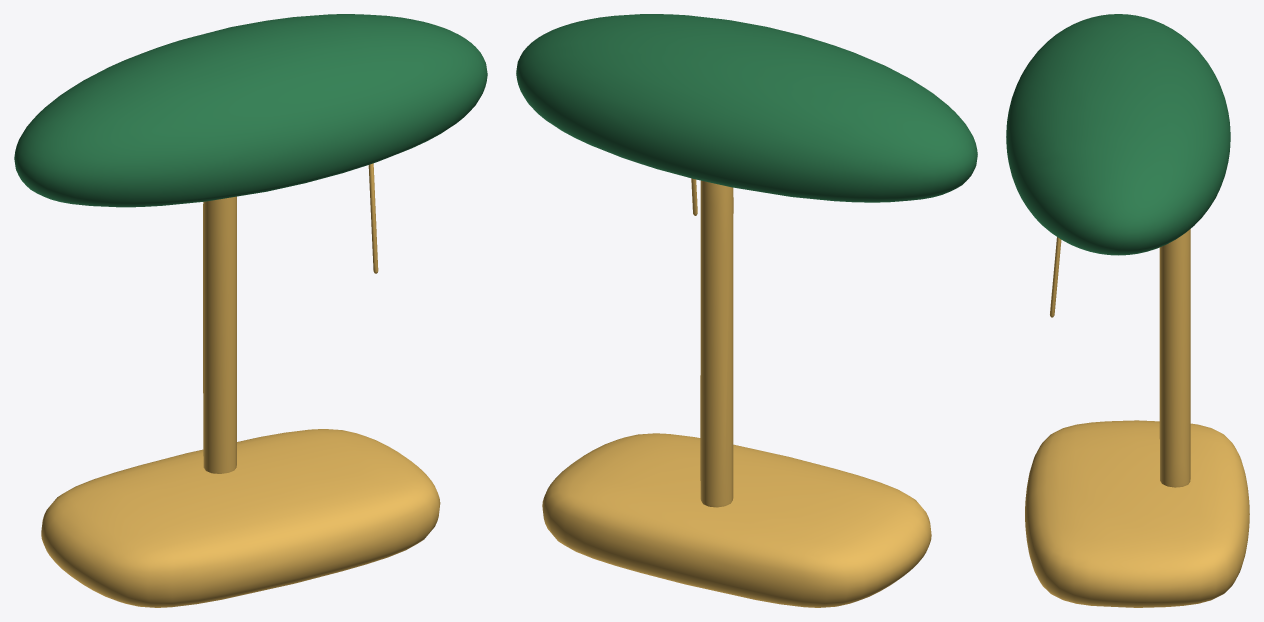
Rendered from deco_lampara_banquero.glb.
3 views of the same model, side by side, from view 1: azimuth 30°, elevation 25°; view 2: azimuth 150°, elevation 25°; view 3: azimuth 270°, elevation 25° (orthographic). The views are drawn at different scales.
Visible parts, largest first — view 1: pantalla banquero.001, base banquero.001, brazo banquero.001; view 2: pantalla banquero.001, base banquero.001, brazo banquero.001; view 3: pantalla banquero.001, base banquero.001, brazo banquero.001, cadenita.001.
Part boxes in pixels (x1,y1,x2,y2): pantalla banquero.001: (14,14,487,207); base banquero.001: (41,429,440,607); brazo banquero.001: (203,196,236,473); pantalla banquero.001: (516,14,977,202); base banquero.001: (542,433,931,607); brazo banquero.001: (700,180,733,507); pantalla banquero.001: (1006,14,1230,255); base banquero.001: (1025,420,1249,607); brazo banquero.001: (1159,229,1190,487); cadenita.001: (1050,237,1061,317).
Bounding box in the file's own units: 0.2573 × 0.2792 × 0.1288.
